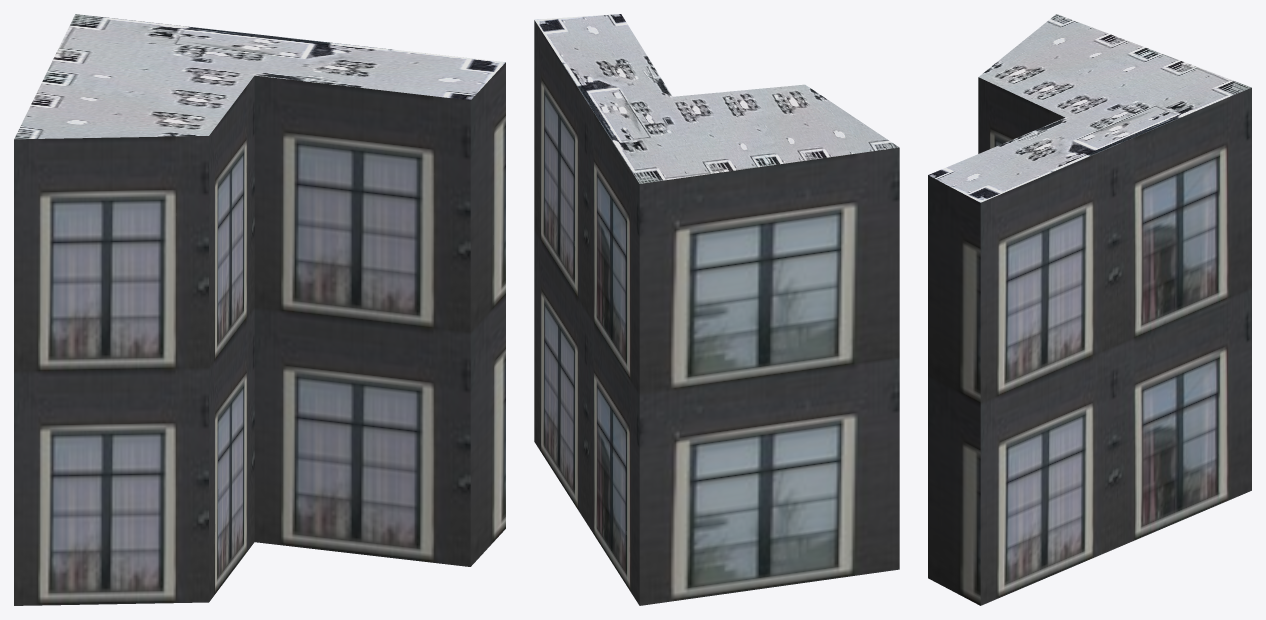
File: ResTex__4529.fbx
The picture shows the model from 3 angles, left to right: view 1: azimuth 30°, elevation 25°; view 2: azimuth 150°, elevation 25°; view 3: azimuth 270°, elevation 25°; orthographic projection. The views are drawn at different scales.
Visible parts, largest first — view 1: CityEngineMaterial_22_m, CityEngineMaterial_4_m; view 2: CityEngineMaterial_22_m, CityEngineMaterial_4_m; view 3: CityEngineMaterial_22_m, CityEngineMaterial_4_m.
Part boxes in pixels (<box>): CityEngineMaterial_22_m: <box>14,62,505,605</box>; CityEngineMaterial_4_m: <box>14,14,505,139</box>; CityEngineMaterial_22_m: <box>534,20,899,605</box>; CityEngineMaterial_4_m: <box>534,14,899,183</box>; CityEngineMaterial_22_m: <box>928,77,1251,605</box>; CityEngineMaterial_4_m: <box>928,14,1251,202</box>.
Bounding box in the file's own units: 6.03 × 6 × 4.37.
Materials: 2 (2 with a texture image).
